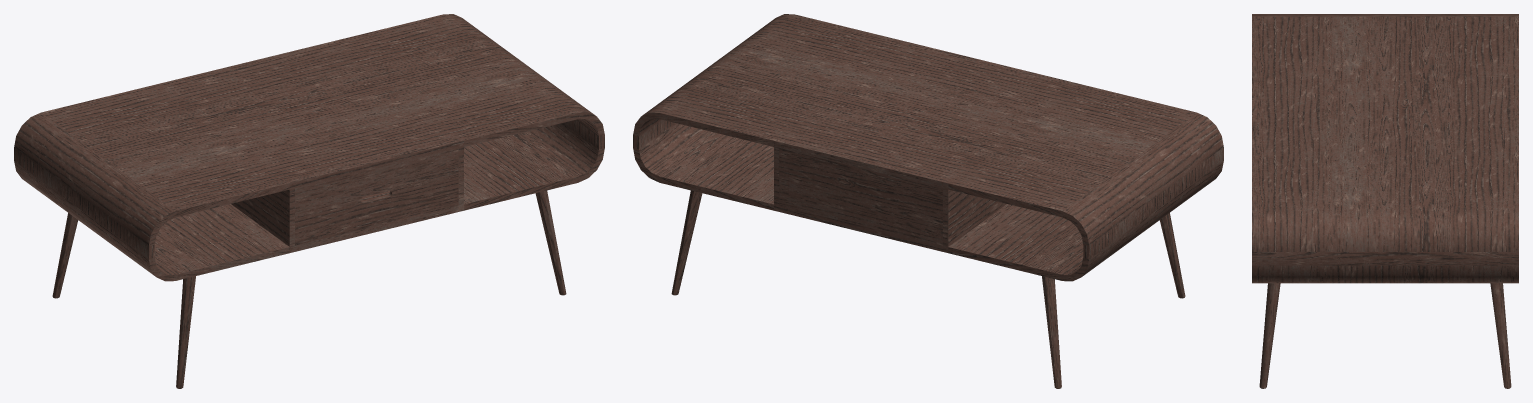
Rendered from CenterTable_4.fbx.
3 renders of one model, left to right at view 1: azimuth 30°, elevation 25°; view 2: azimuth 150°, elevation 25°; view 3: azimuth 270°, elevation 25°, orthographic.
Visible parts, largest first — view 1: Cube.006; view 2: Cube.006; view 3: Cube.006.
Boxes of the visible parts, box(x1,y1,x2,y2) form: Cube.006: box(14, 14, 604, 388); Cube.006: box(633, 14, 1223, 388); Cube.006: box(1252, 14, 1518, 388).
Bounding box in the file's own units: 119 × 45.71 × 60.96.
1 material, 1 textured.
